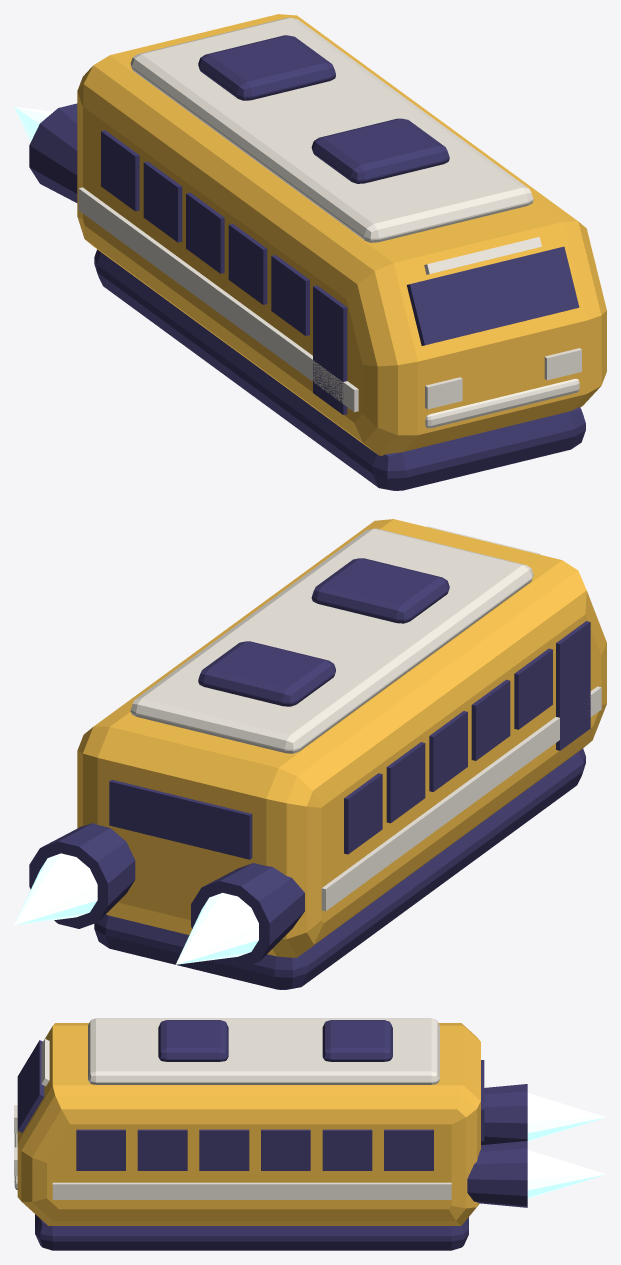
File: bus.glb
3 views of the same model, one above another, from view 1: azimuth 30°, elevation 25°; view 2: azimuth 150°, elevation 25°; view 3: azimuth 270°, elevation 25° (orthographic). The views are drawn at different scales.
Visible parts, largest first — view 1: Body; view 2: Body, ThrusterGlow; view 3: Body, ThrusterGlow.
Boxes of the visible parts, x1,y1,x2,y2 form: Body: [29, 14, 606, 490]; Body: [29, 519, 606, 989]; ThrusterGlow: [14, 853, 258, 964]; Body: [14, 1018, 527, 1250]; ThrusterGlow: [527, 1093, 606, 1198].
Size of what is drawn, in the model's own units: 0.352 by 0.35 by 1.01.
